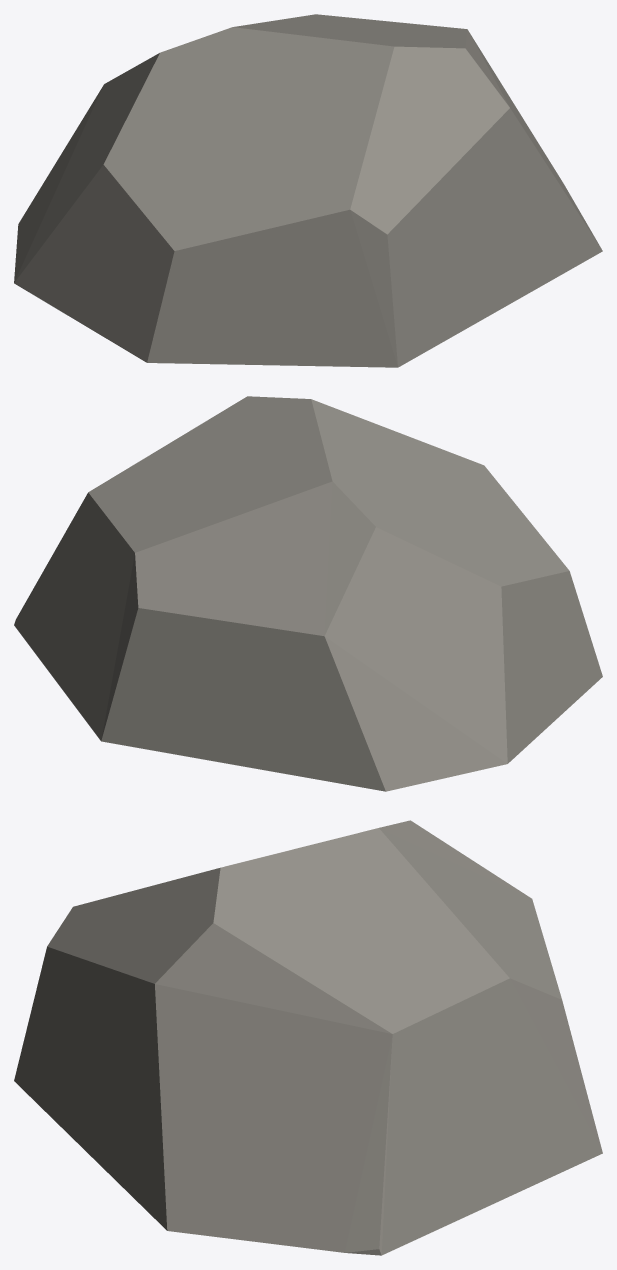
Rendered from Rock_Round_s_03.fbx.
3 renders of one model, top to bottom at view 1: azimuth 30°, elevation 25°; view 2: azimuth 150°, elevation 25°; view 3: azimuth 270°, elevation 25°, orthographic. The views are drawn at different scales.
Parts seen in each view (by area): view 1: Rock_Round_s_03; view 2: Rock_Round_s_03; view 3: Rock_Round_s_03.
Boxes of the visible parts, x1,y1,x2,y2 form: Rock_Round_s_03: (14,14,602,367); Rock_Round_s_03: (14,396,602,791); Rock_Round_s_03: (14,820,602,1255).
Size of the model in its own units: 52.53 by 22.52 by 45.84.
